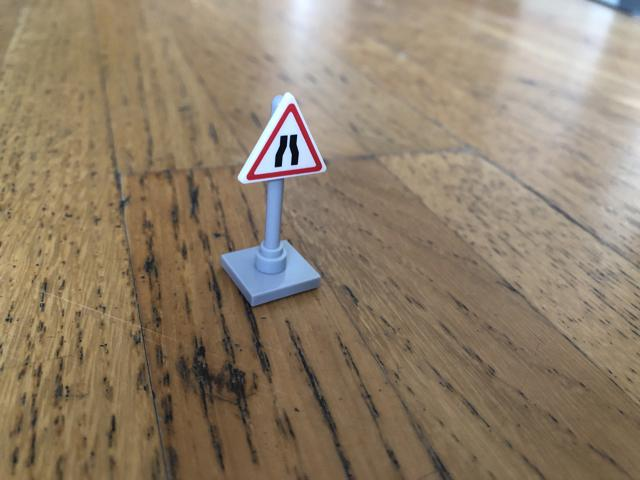verengte fahrbahn: (239, 93, 327, 185)
